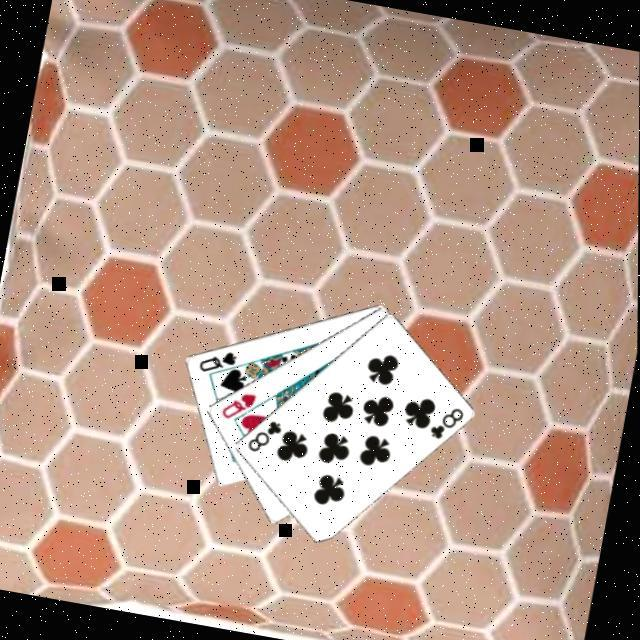8C: (424, 402, 466, 448), (242, 415, 284, 460)
QH: (216, 387, 257, 427)
QS: (193, 344, 240, 381)
